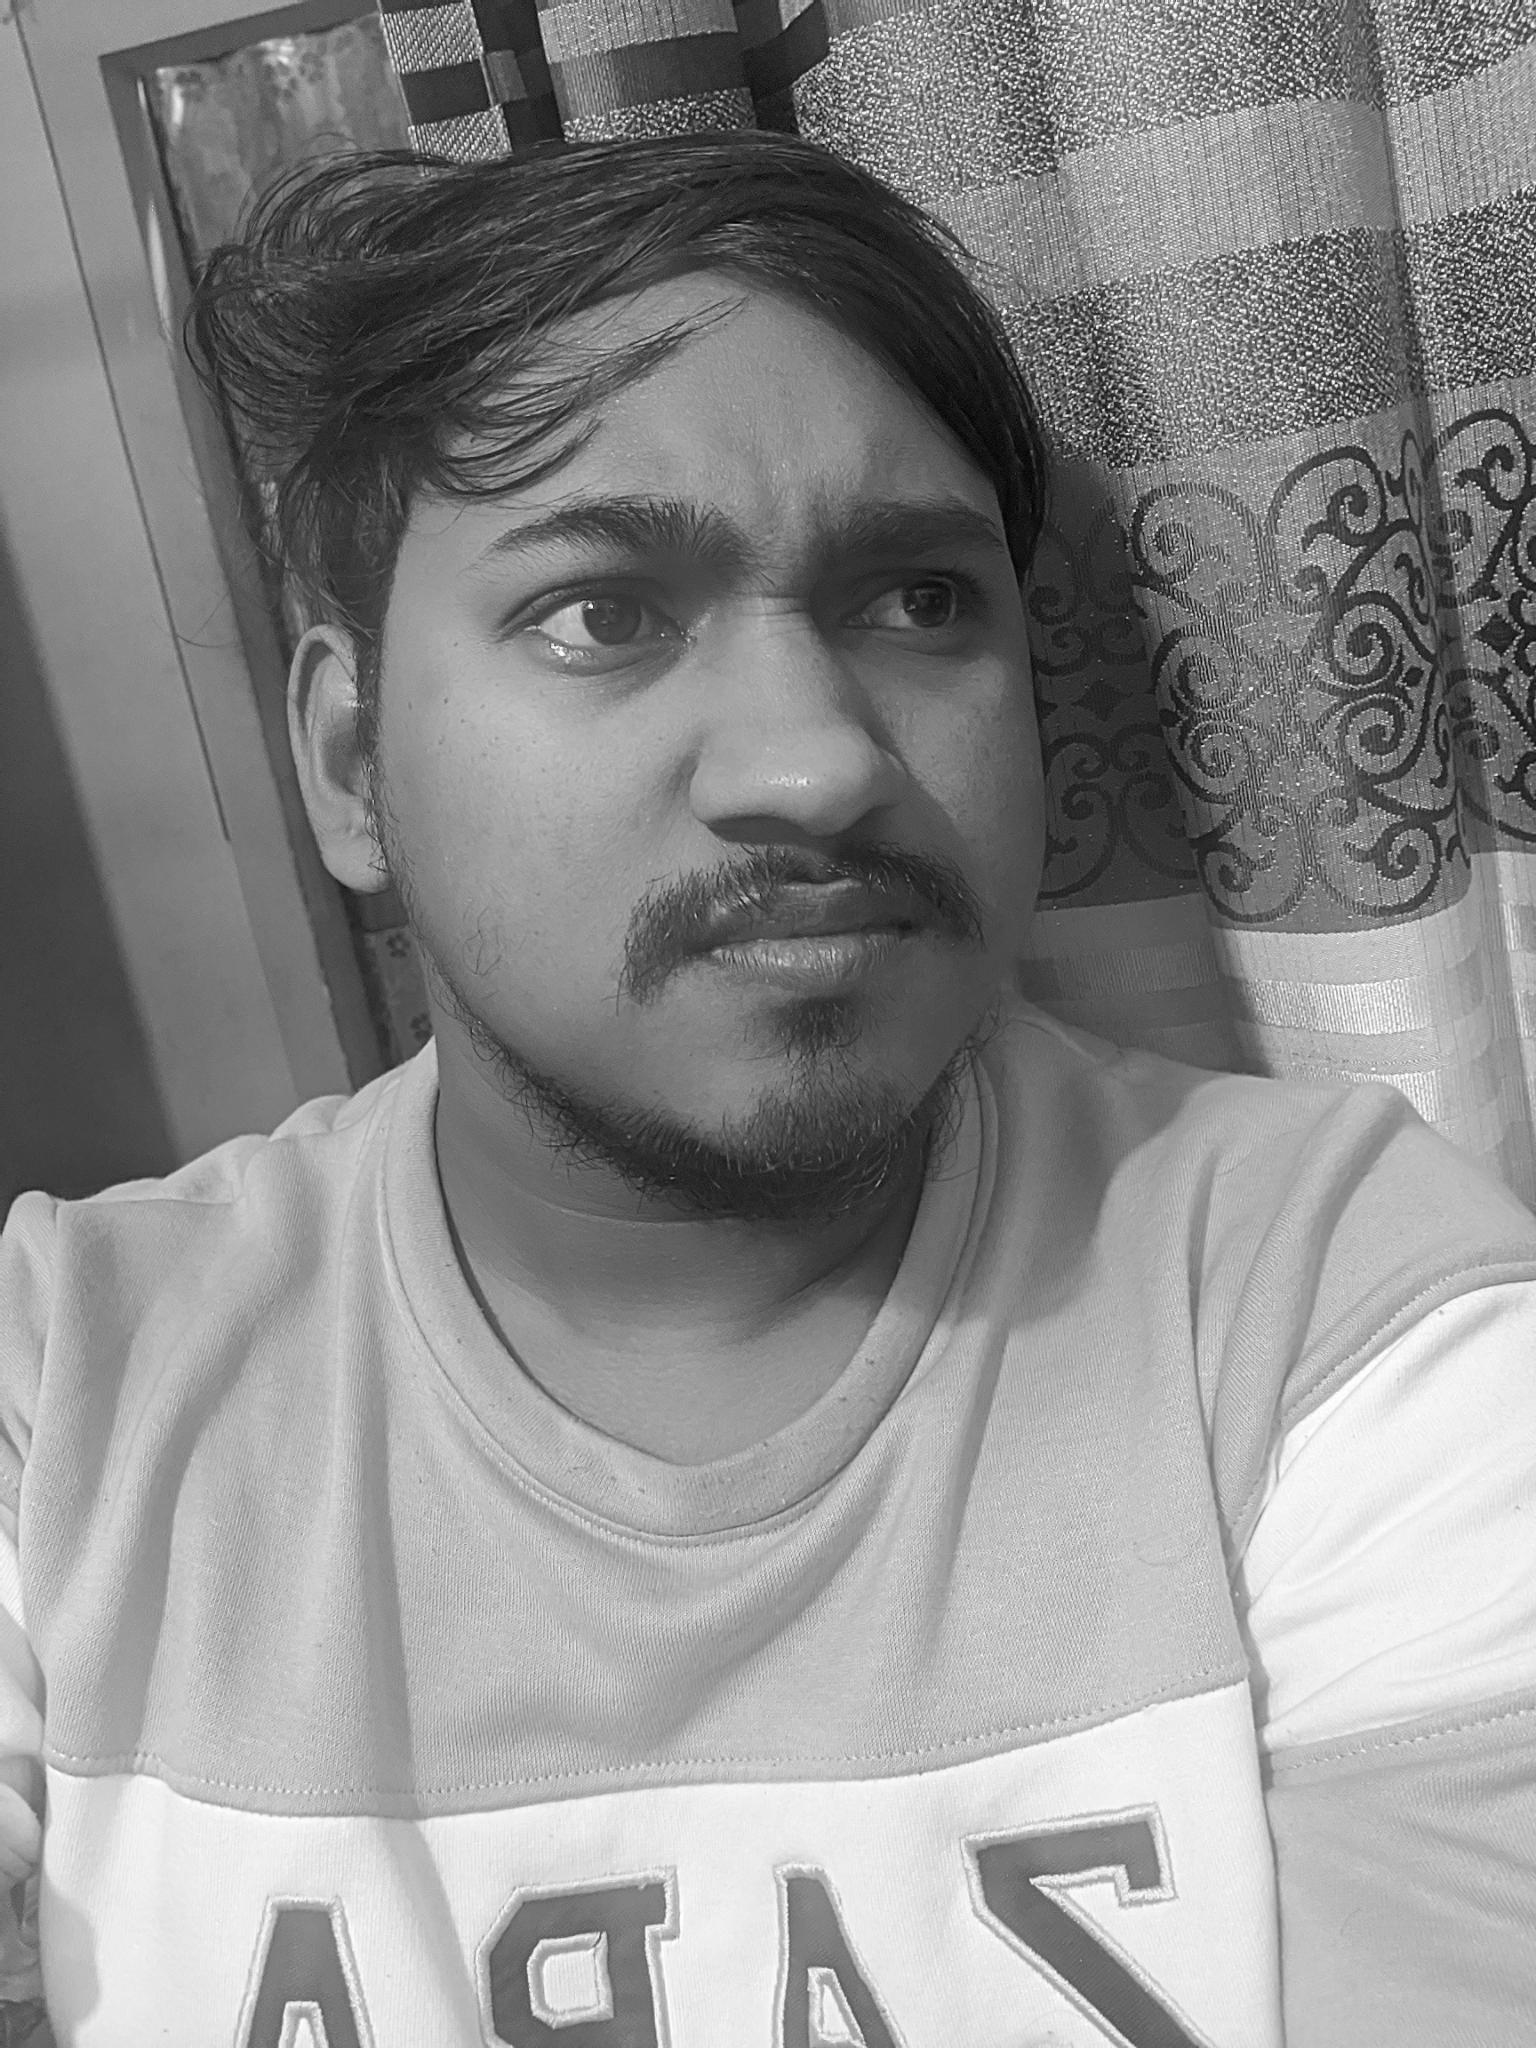Angry: (423, 419, 1081, 1159)
